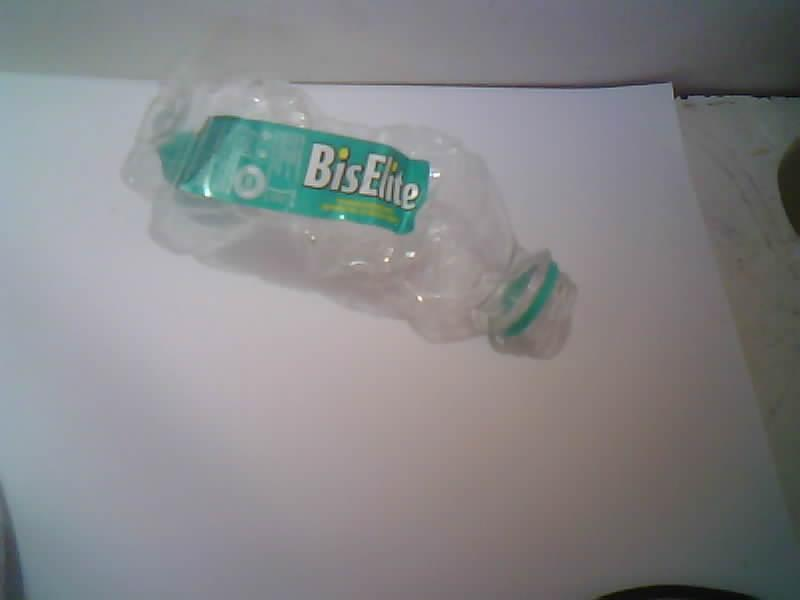non-biodegradable: (124, 71, 575, 357)
